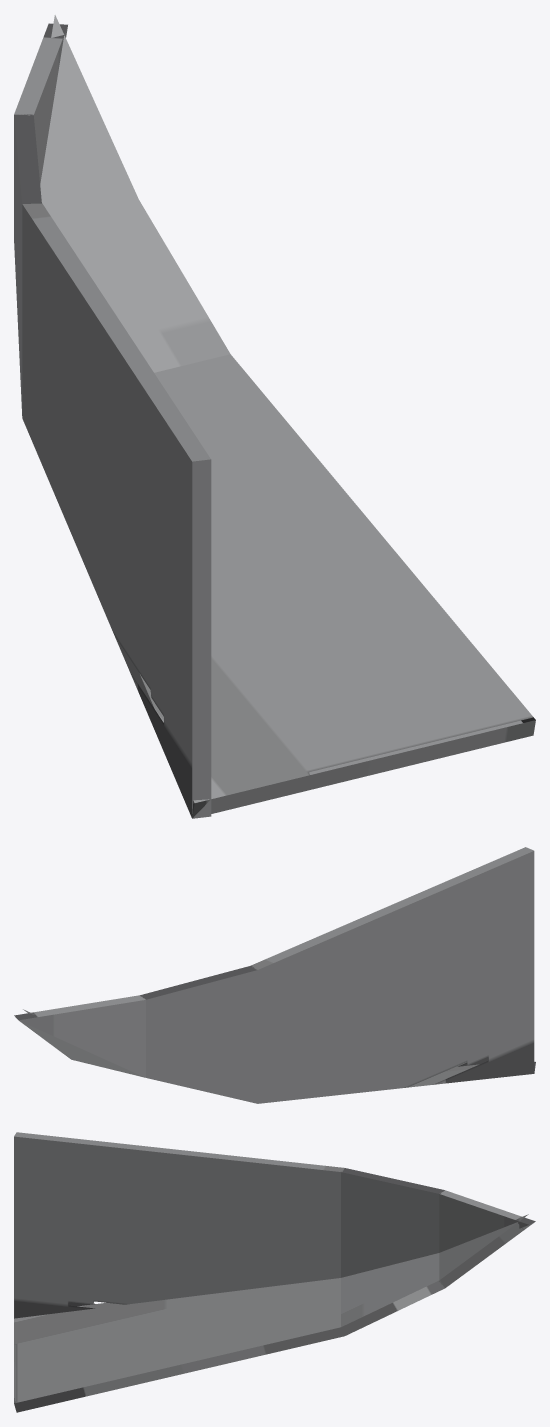
3 views of the same model, one above another, from view 1: azimuth 30°, elevation 25°; view 2: azimuth 150°, elevation 25°; view 3: azimuth 270°, elevation 25° (orthographic). The views are drawn at different scales.
Bounding box in the file's own units: 1.04 × 1.04 × 2.47.
